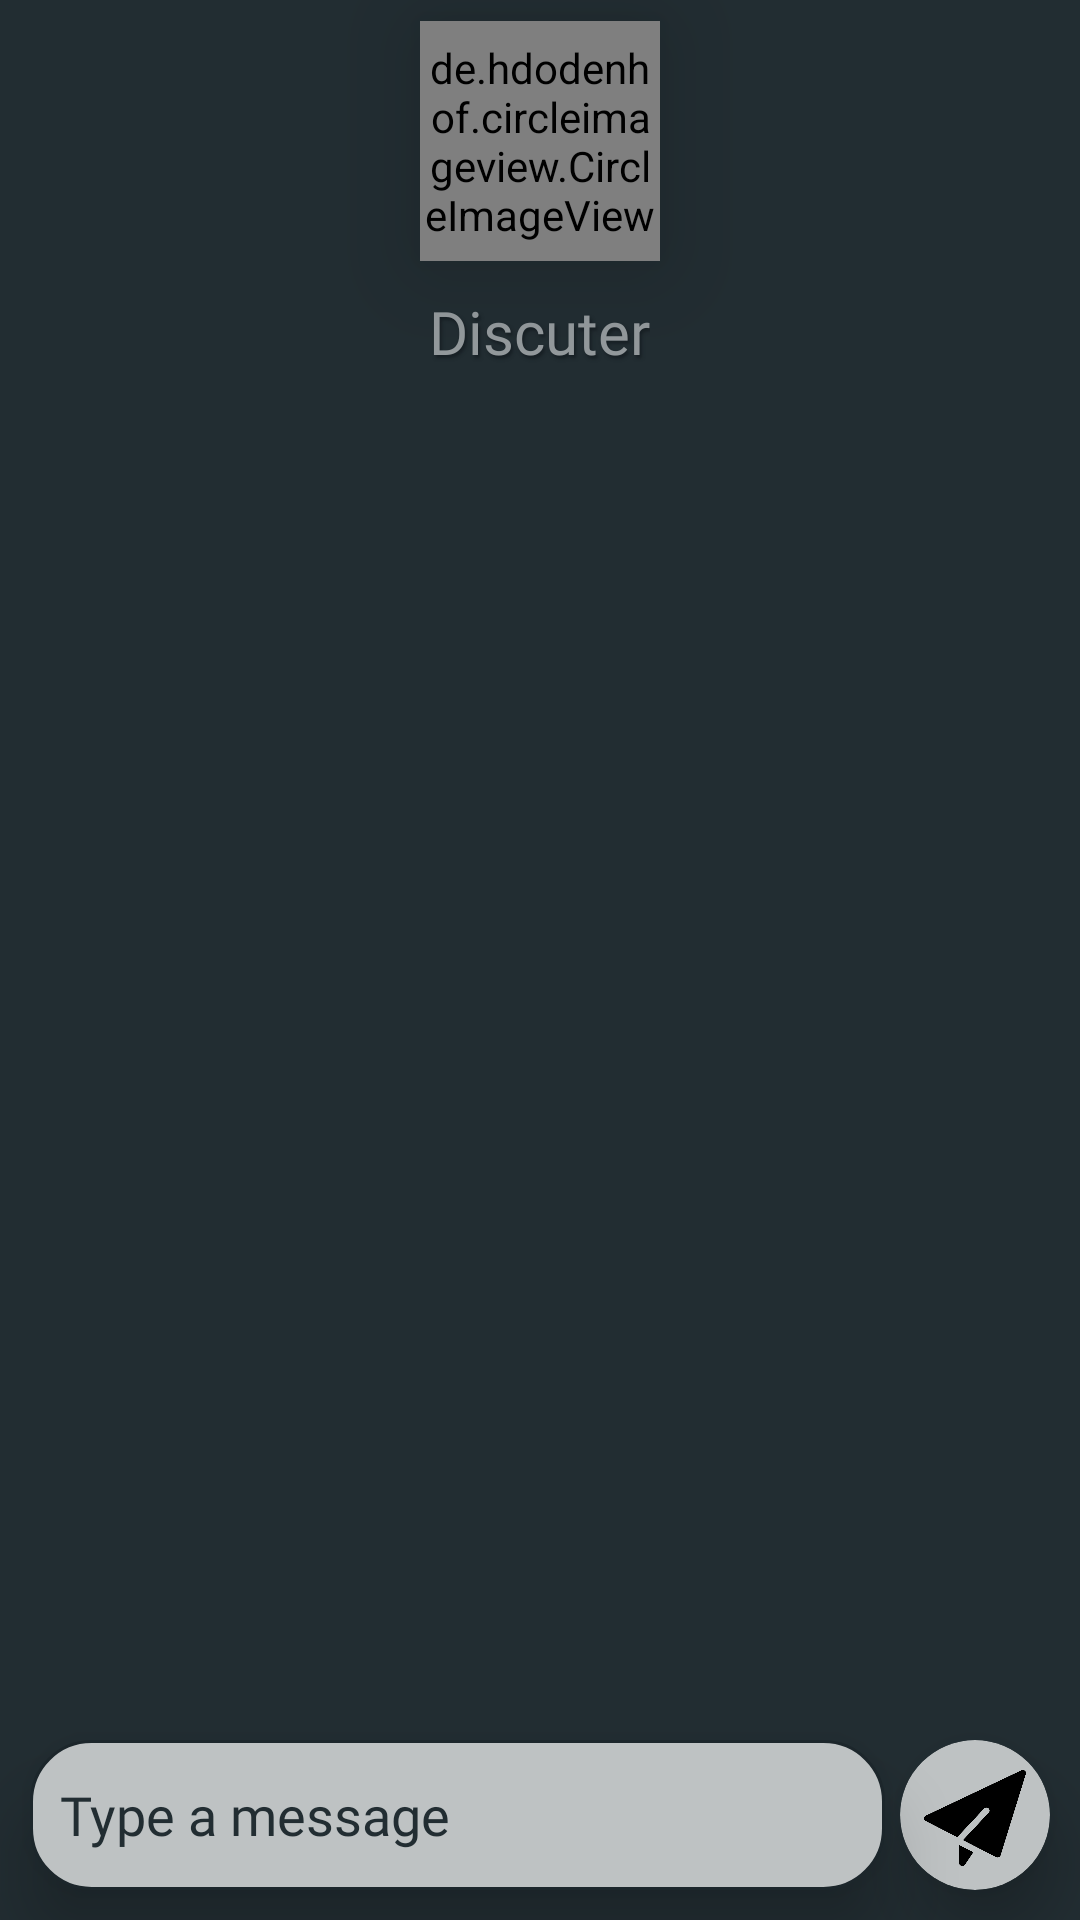

Point at icon controls on the screen. Image size 1080*1920, points as point (x, y).
send: point (975, 1818)
